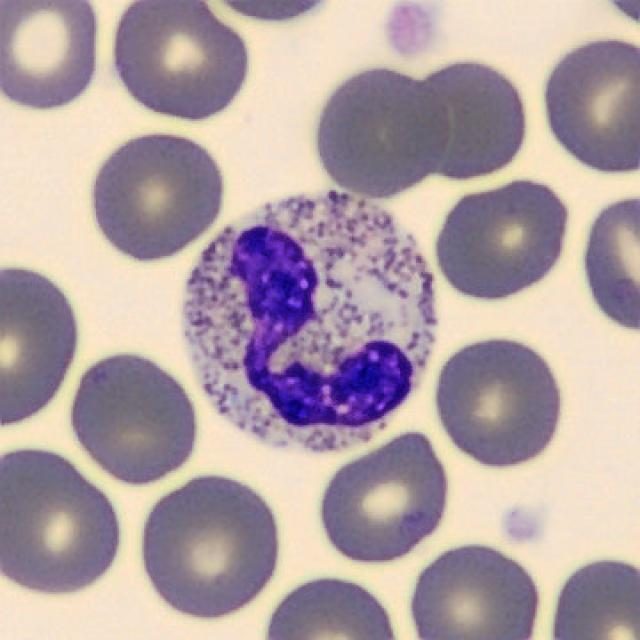Neutrofilo segmentado: (183, 196, 436, 453)
